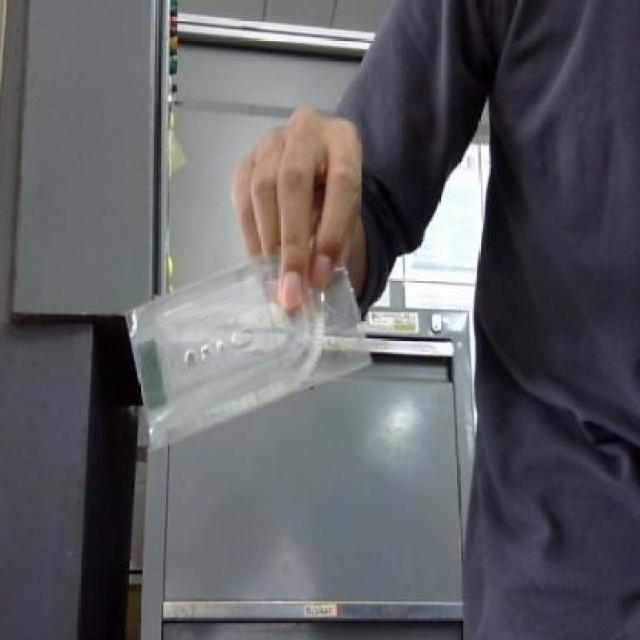Plastic: (115, 230, 382, 463)
